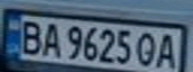2: (97, 26, 118, 64)
5: (115, 27, 136, 65)
6: (78, 25, 100, 62)
9: (60, 22, 84, 61)
A: (154, 30, 181, 70), (36, 20, 63, 57)
B: (15, 17, 45, 55)
O: (133, 29, 160, 69)
